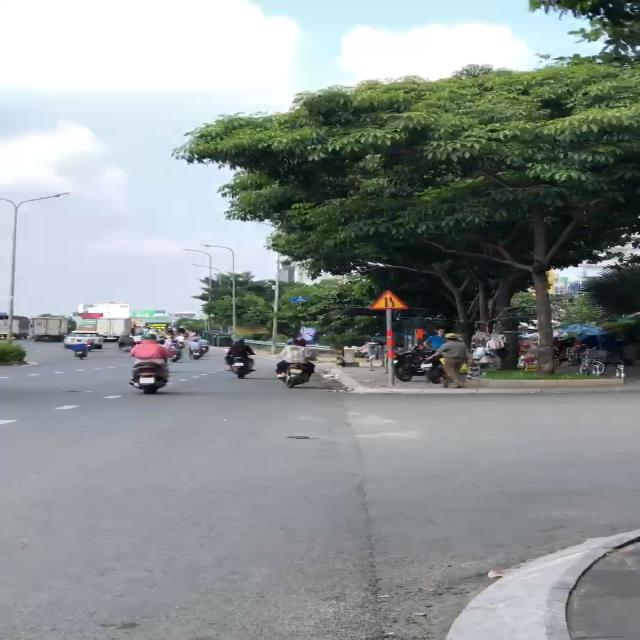Bien bao duong bi thu hep: (366, 288, 411, 312)
